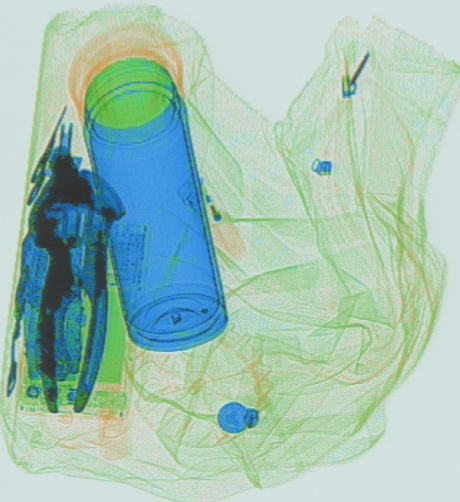lighter: (175, 170, 248, 264)
